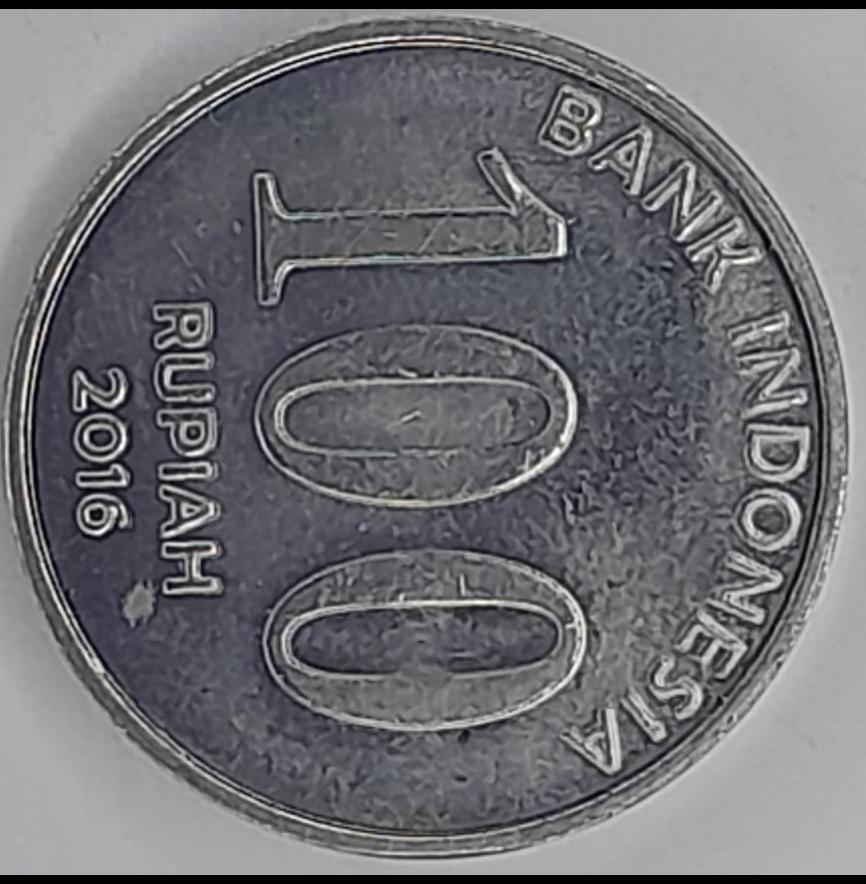coin_100_e2016: (0, 10, 855, 861)
